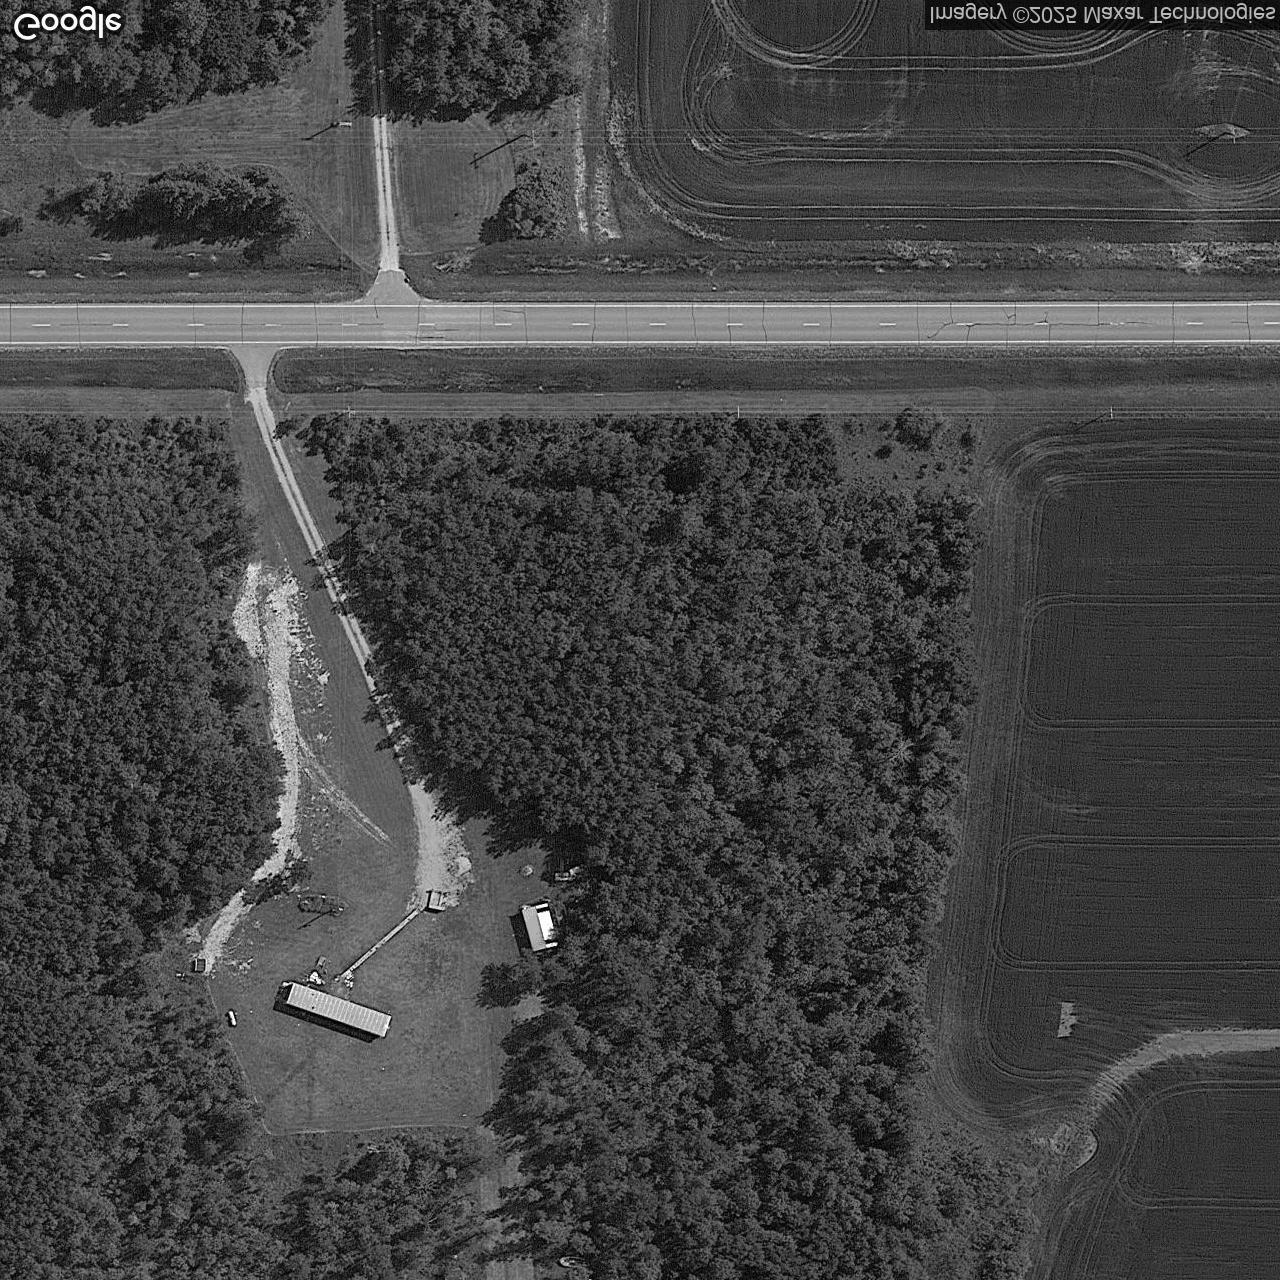Propane: (225, 1006, 240, 1028)
Trailer: (286, 982, 393, 1037)
